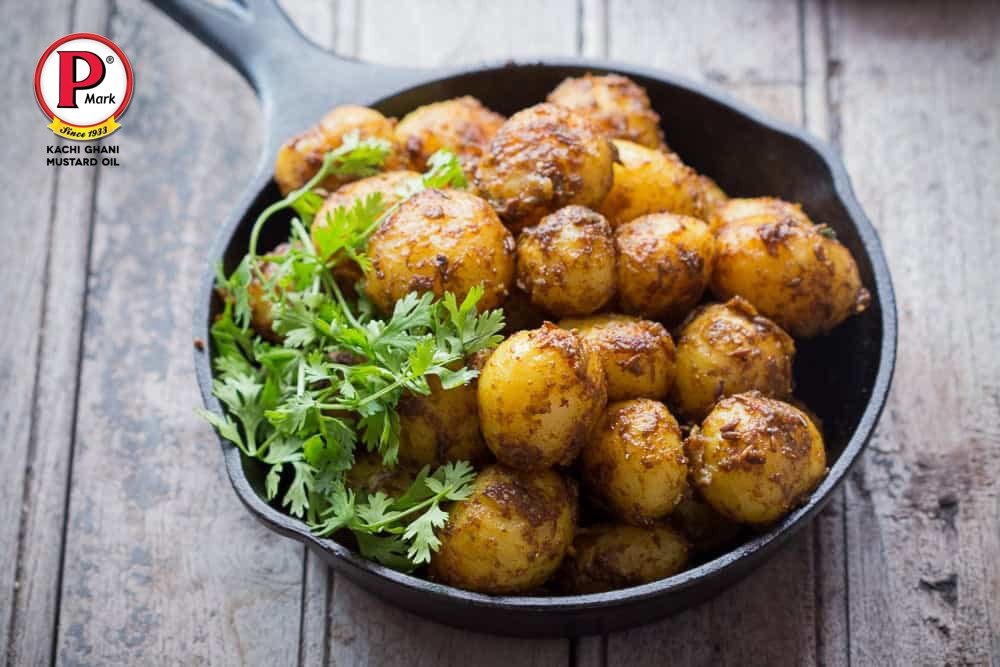boiled potatoes: (353, 109, 813, 543)
